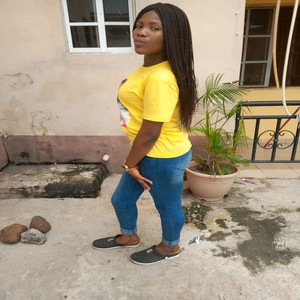Fulokoja_female_student: (121, 6, 189, 253)
